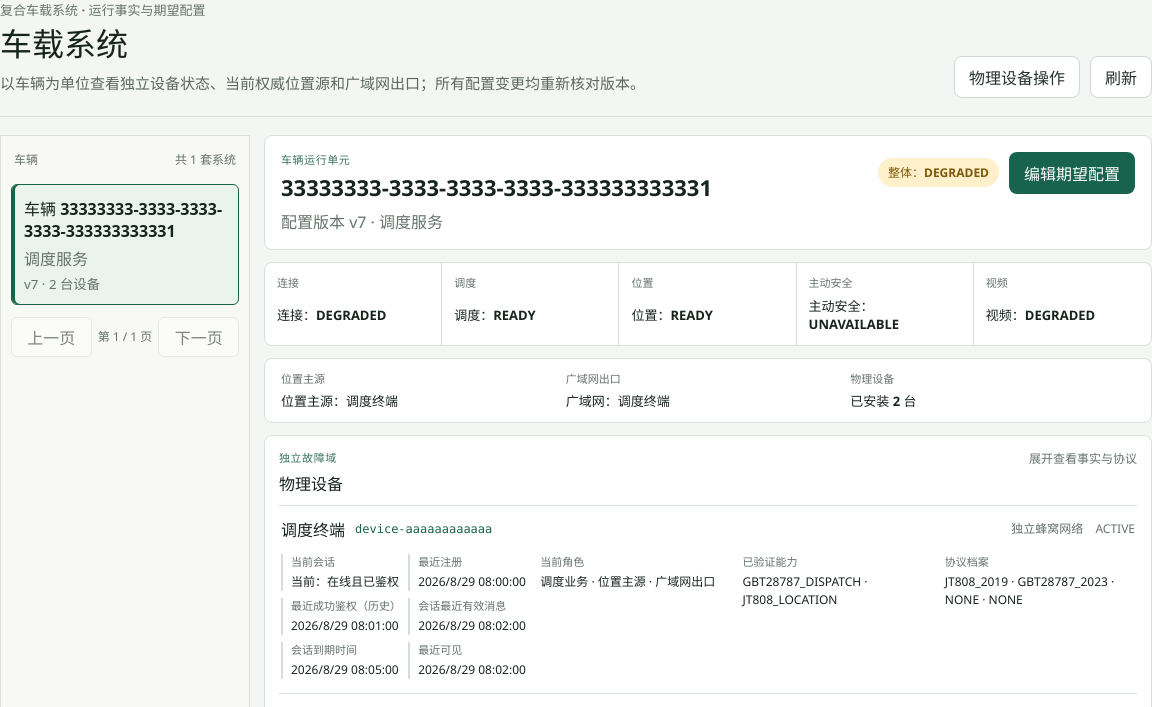
Test: OnboardSystemManagementPage › clears actionable detail and forbids apply when detail reload fails
The width and height of the screenshot is (1152, 707).
Expected: the text "整体：DEGRADED" is shown, x1=878 y1=158 x2=999 y2=187
Click the button "编辑期望配置".
click(1072, 173)  # box x1=1009 y1=152 x2=1135 y2=194
(page scrolled)
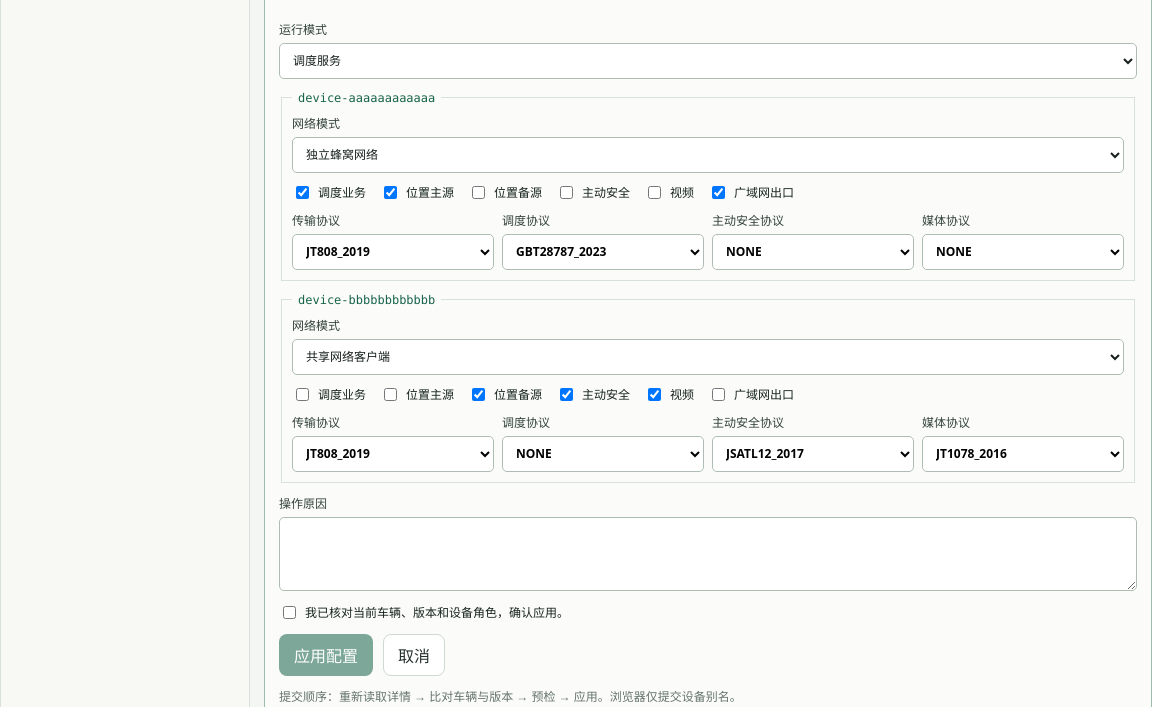
Type "链路异常保护" into the text box labelled "操作原因".
click(708, 554); type("链路异常保护")  # box x1=279 y1=517 x2=1137 y2=591
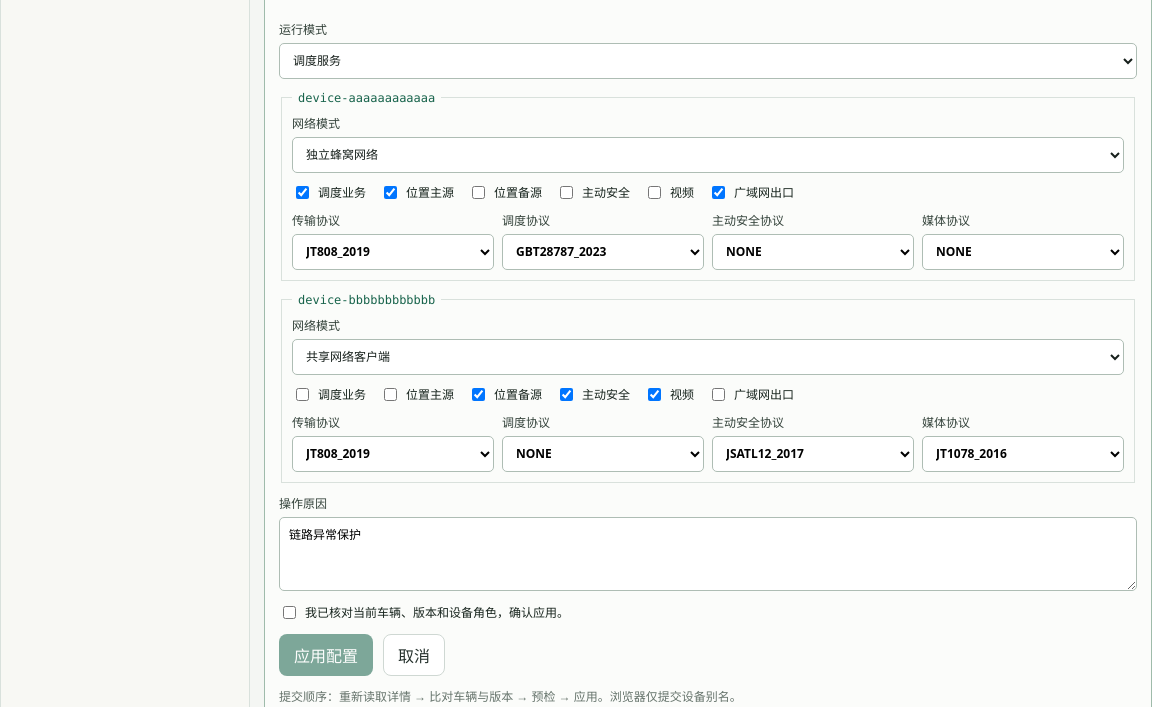
Click the checkbox labelled "我已核对当前车辆、版本和设备角色，确认应用。".
click(290, 612)  # box x1=283 y1=606 x2=296 y2=619
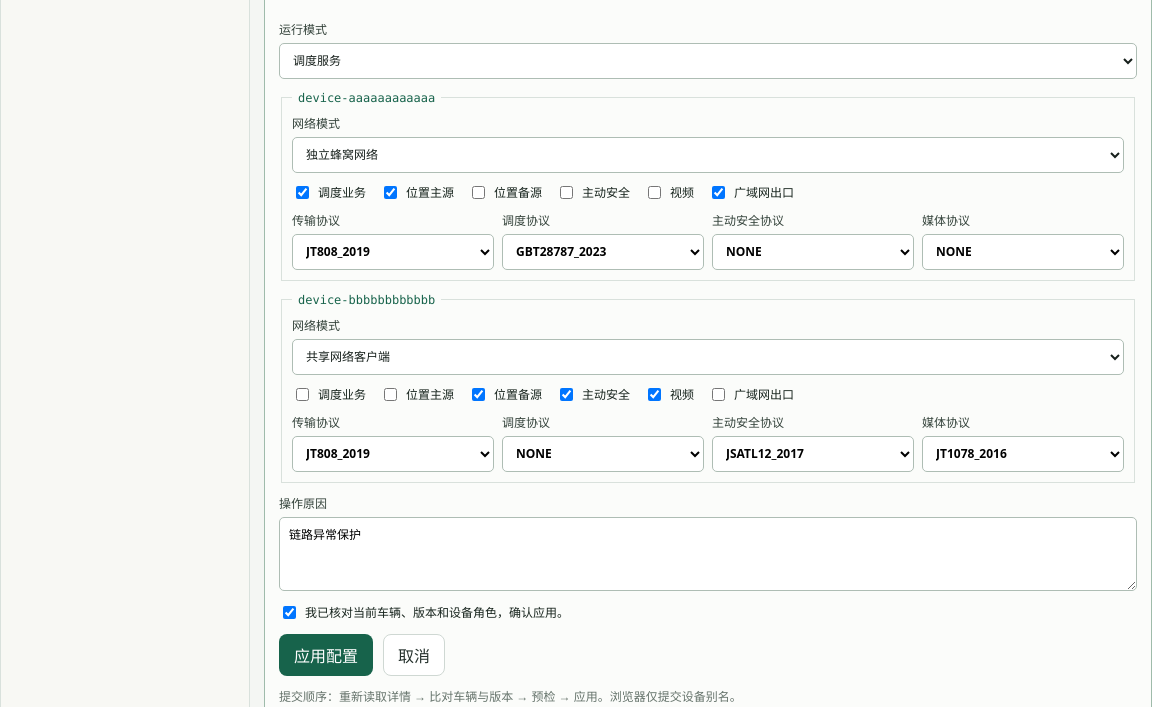
Click the button "应用配置".
click(326, 655)  # box x1=279 y1=634 x2=373 y2=676
(page scrolled)
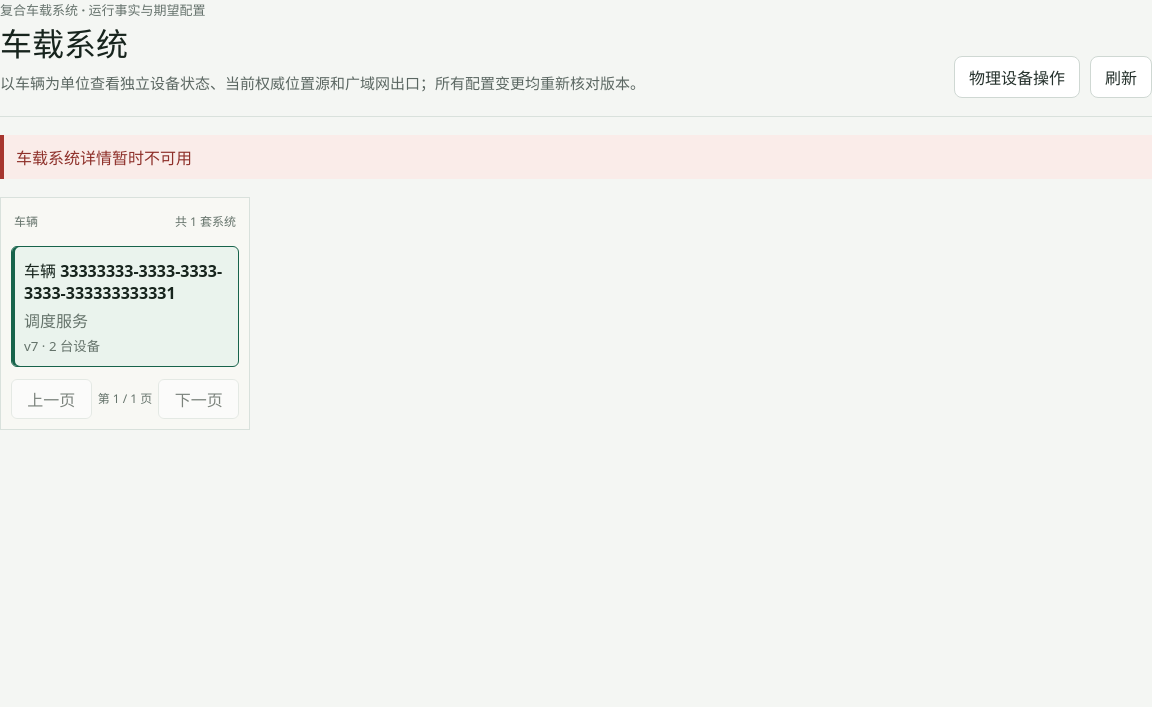
Expected: the message does not show "raw secret response", x1=0 y1=135 x2=1151 y2=179
Result: the message reads "车载系统详情暂时不可用" at x1=16 y1=147 x2=192 y2=169
Result: the button "应用配置" is gone
